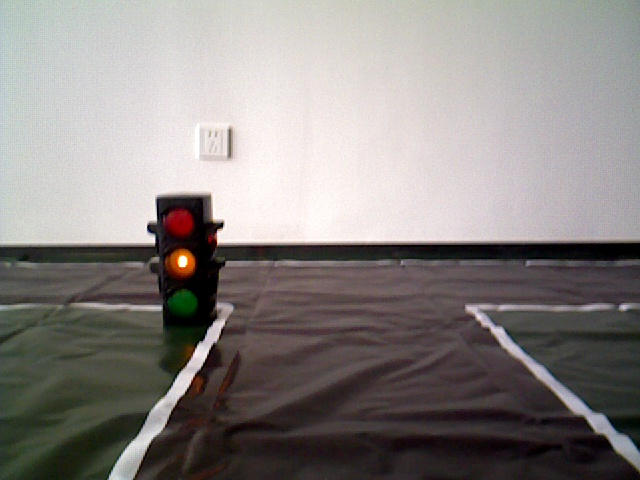yellow: (152, 195, 226, 328)
